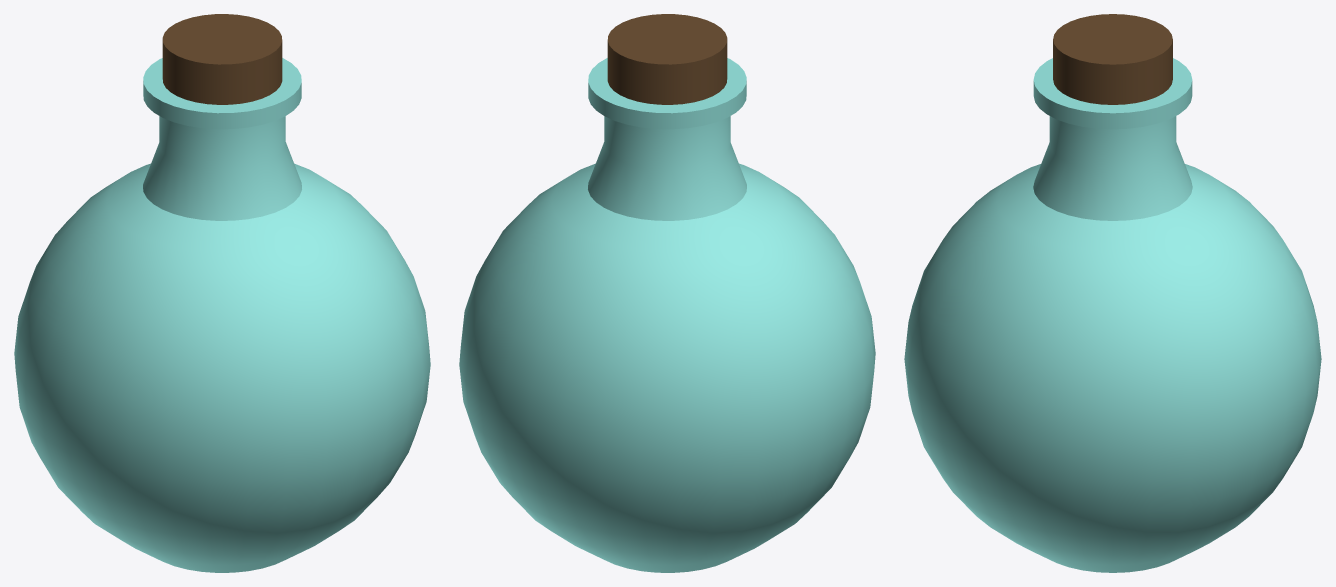
Rendered from Potion.fbx.
3 renders of one model, left to right at view 1: azimuth 30°, elevation 25°; view 2: azimuth 150°, elevation 25°; view 3: azimuth 270°, elevation 25°, orthographic.
Parts seen in each view (by area): view 1: Potion; view 2: Potion; view 3: Potion.
Boxes of the visible parts, left/top/right/bottom form: Potion: left=14, top=14, right=430, bottom=572; Potion: left=459, top=14, right=875, bottom=572; Potion: left=904, top=14, right=1321, bottom=572.
Size of the model in its own units: 163 by 216 by 163.
